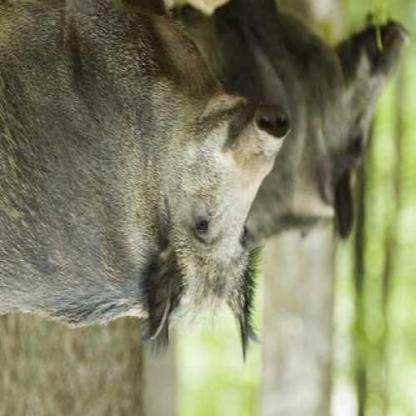boar: (0, 0, 317, 374)
